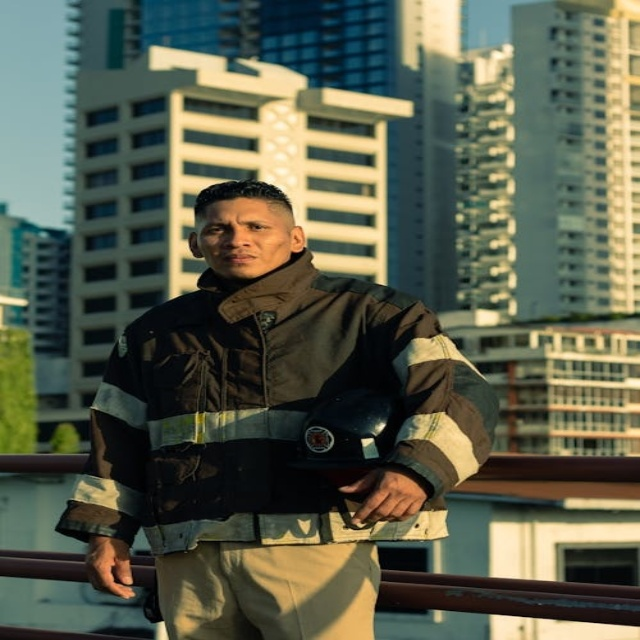Sin_gafas: (200, 217, 275, 240)
Sin_guantes: (335, 468, 425, 527), (79, 534, 141, 601)
Sin_mascara: (214, 250, 264, 271)
